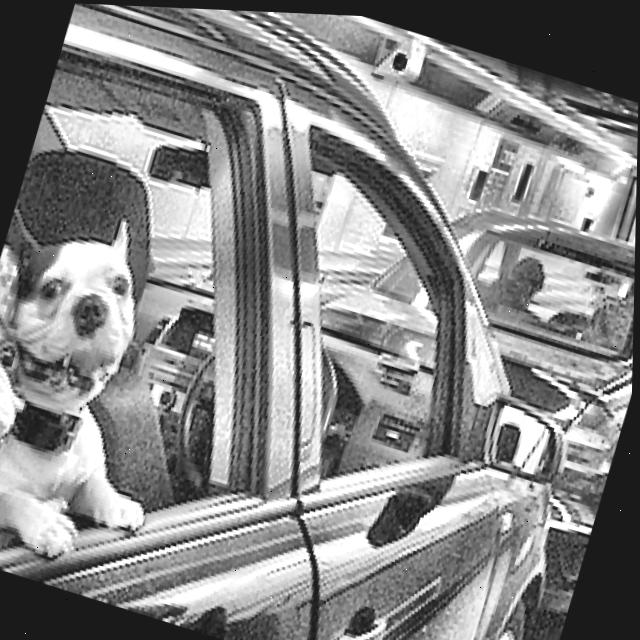light_vehicle: (0, 0, 640, 640), (247, 146, 638, 629), (612, 230, 636, 366)
